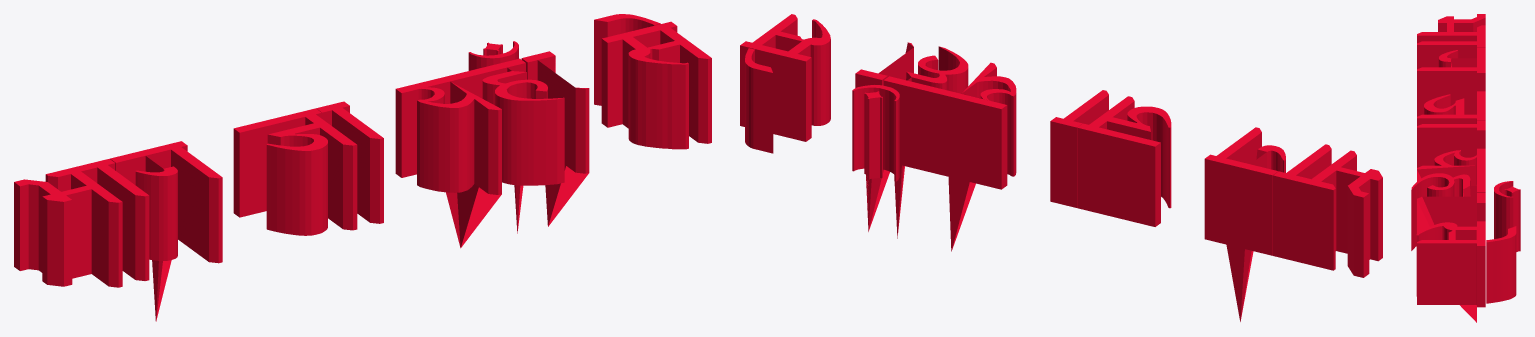
File: get_lose.fbx
3 renders of one model, left to right at view 1: azimuth 30°, elevation 25°; view 2: azimuth 150°, elevation 25°; view 3: azimuth 270°, elevation 25°, orthographic. The views are drawn at different scales.
Parts seen in each view (by area): view 1: Text; view 2: Text; view 3: Text.
Part boxes in pixels (box(x1,y1,x2,y2)): Text: box(14, 14, 711, 321); Text: box(740, 14, 1382, 321); Text: box(1411, 14, 1520, 322).
Size of the model in its own units: 381 by 94 by 75.68.
